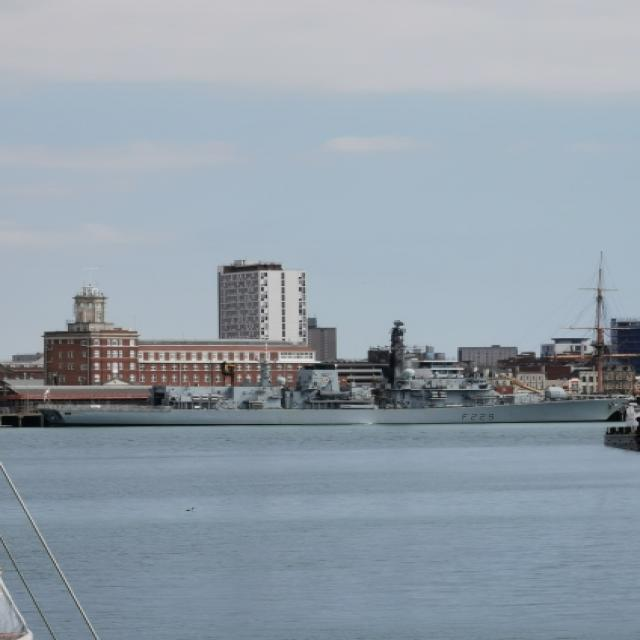Fragata: (26, 347, 640, 433)
